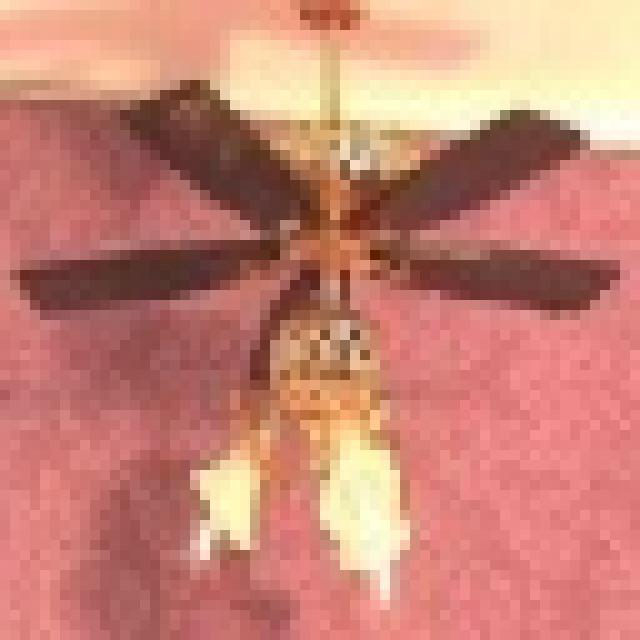fan_off: (18, 12, 620, 331)
